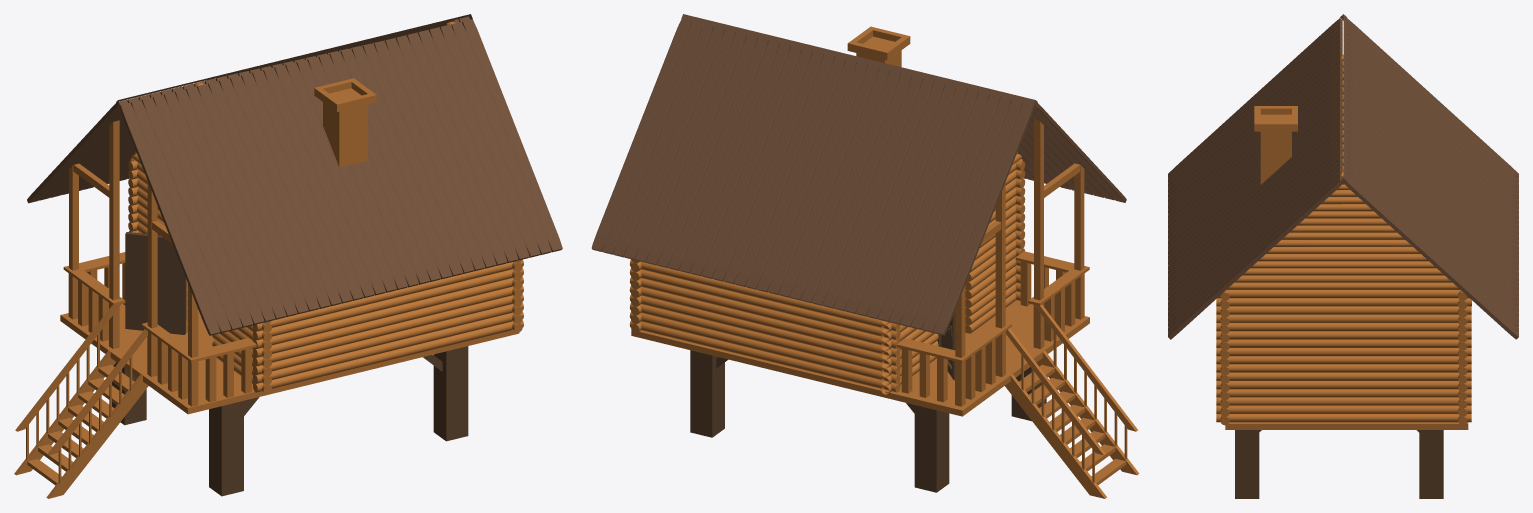
The picture shows the model from 3 angles, left to right: view 1: azimuth 30°, elevation 25°; view 2: azimuth 150°, elevation 25°; view 3: azimuth 270°, elevation 25°; orthographic projection. The views are drawn at different scales.
Visible parts, largest first — view 1: Plane_Roof_0, Plane_Ligher Brown.001_0, Plane_Material.001_0; view 2: Plane_Roof_0, Plane_Ligher Brown.001_0, Plane_Material.001_0; view 3: Plane_Roof_0, Plane_Ligher Brown.001_0, Plane_Material.001_0.
Part boxes in pixels (x1,y1,x2,y2): Plane_Roof_0: (27,14,562,335); Plane_Ligher Brown.001_0: (14,21,523,498); Plane_Material.001_0: (112,232,468,496); Plane_Roof_0: (591,14,1126,335); Plane_Ligher Brown.001_0: (629,24,1139,498); Plane_Material.001_0: (690,310,1046,492); Plane_Roof_0: (1168,14,1518,339); Plane_Ligher Brown.001_0: (1216,54,1471,429); Plane_Material.001_0: (1235,430,1443,498).
Bounding box in the file's own units: 19.92 × 15.82 × 14.43.
